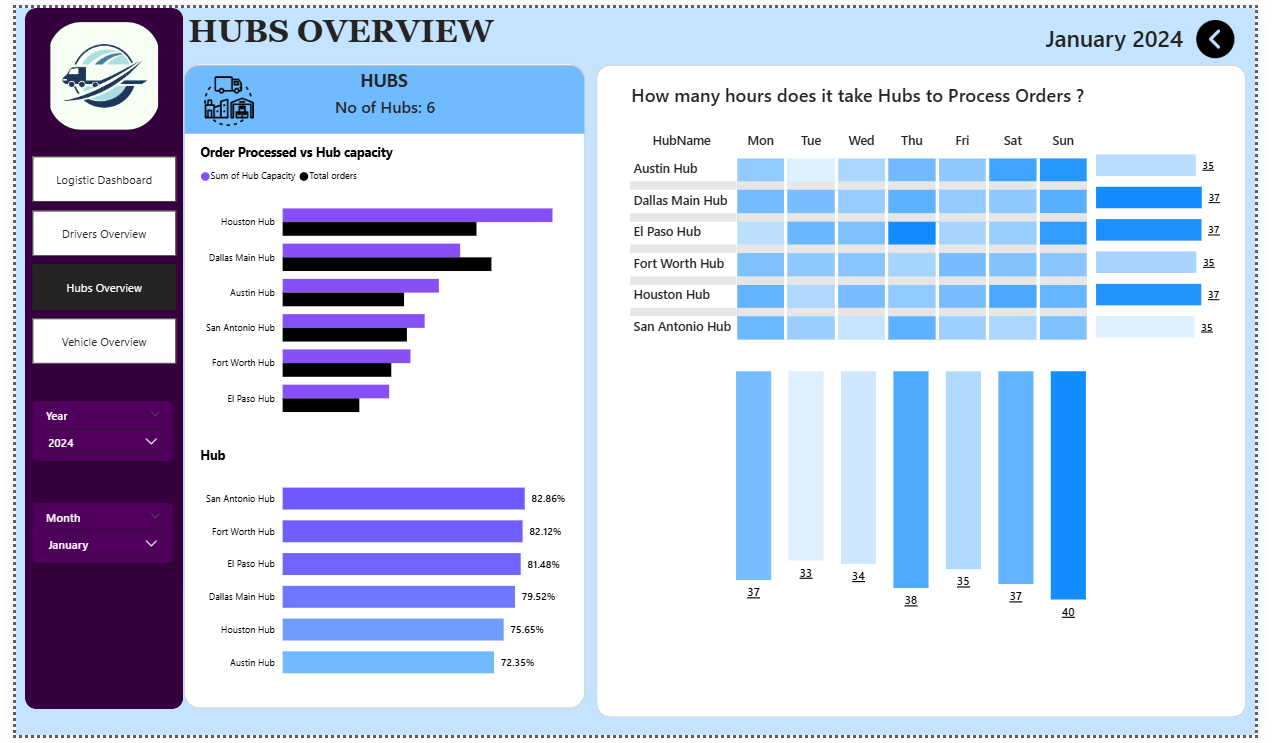

The page's visual inventory and layout, read from the dashboard file:
{"tool":"powerbi","page":{"name":"Hubs Overview","canvas":[1450,850],"ordinal":2},"visuals":[{"type":"shape","box":[10,0,185,820],"z":0},{"type":"textbox","box":[195.9,0,407.3,58.4],"z":1000},{"type":"slicer","fields":{"Values":["Date table.Year"]},"box":[20,459.5,164,70],"z":2000},{"type":"slicer","fields":{"Values":["Date table.Month"]},"box":[20,579.5,164,70],"z":3000},{"type":"image","box":[36.1,15.5,132.3,127.2],"z":4000},{"type":"cardVisual","fields":{"Data":["Orders.Year month title"]},"box":[1118.7,0,331.6,67],"z":5000},{"type":"shape","box":[678.8,67,759.5,763],"z":6000},{"type":"shape","box":[195.9,65.3,469.1,754.4],"z":7000},{"type":"shape","box":[195.9,67,469.1,80.8],"z":8000},{"type":"textbox","box":[300.7,65.3,259.5,56.7],"z":9000},{"type":"cardVisual","fields":{"Data":["Hubs.No of hubs"]},"box":[280.1,80.8,302.4,67],"z":10000},{"type":"clusteredBarChart","title":"Order Processed vs Hub capacity","fields":{"Category":["Hubs.HubName"],"Y":["Sum(Hubs.Hub Capacity)","Orders.Total orders"]},"box":[211.4,158.1,438.2,336.8],"z":11000},{"type":"barChart","title":"Hub ","fields":{"Category":["Hubs.HubName"],"Y":["Orders.On time delivery rate"]},"box":[211.4,512.1,438.2,287],"z":12000},{"type":"pivotTable","fields":{"Rows":["Hubs.HubName"],"Columns":["Date table.Day"],"Values":["Orders.Avg Delivery time (hrs)"]},"box":[713.1,139.2,572.2,285.2],"z":13000},{"type":"columnChart","fields":{"Category":["Date table.Day"],"Y":["Orders.Avg Delivery time (hrs)"]},"box":[836.8,410.7,421,316.2],"z":14000},{"type":"barChart","fields":{"Category":["Hubs.HubName"],"Y":["Orders.Avg Delivery time (hrs)"]},"box":[1257.8,158.1,192.5,233.7],"z":15000},{"type":"cardVisual","fields":{"Data":["Hubs.Hub Title"]},"box":[665,67,639.2,67],"z":16000},{"type":"image","box":[1354.1,13.7,96.2,44.7],"z":17000},{"type":"pageNavigator","box":[18.9,173.6,168.4,244],"z":17001},{"type":"image","box":[195.9,79,104.8,60.1],"z":17002}]}

Visuals, with their boxes in screenshot pixels (x1, y1, x2, y2), scaled from the page's 1450x850 canvas onto the 1272x743 screenshot:
shape: bbox=(9, 0, 171, 717)
textbox: bbox=(172, 0, 529, 51)
slicer - Date table.Year: bbox=(18, 402, 161, 463)
slicer - Date table.Month: bbox=(18, 507, 161, 568)
image: bbox=(32, 14, 148, 125)
cardVisual - Orders.Year month title: bbox=(981, 0, 1271, 59)
shape: bbox=(595, 59, 1262, 726)
shape: bbox=(172, 57, 583, 717)
shape: bbox=(172, 59, 583, 129)
textbox: bbox=(264, 57, 491, 107)
cardVisual - Hubs.No of hubs: bbox=(246, 71, 511, 129)
"Order Processed vs Hub capacity" clusteredBarChart: bbox=(185, 138, 570, 433)
"Hub " barChart: bbox=(185, 448, 570, 699)
pivotTable - Hubs.HubName x Date table.Day: bbox=(626, 122, 1128, 371)
columnChart - Date table.Day x Orders.Avg Delivery time (hrs): bbox=(734, 359, 1103, 635)
barChart - Hubs.HubName x Orders.Avg Delivery time (hrs): bbox=(1103, 138, 1271, 342)
cardVisual - Hubs.Hub Title: bbox=(583, 59, 1144, 117)
image: bbox=(1188, 12, 1271, 51)
pageNavigator: bbox=(17, 152, 164, 365)
image: bbox=(172, 69, 264, 122)
